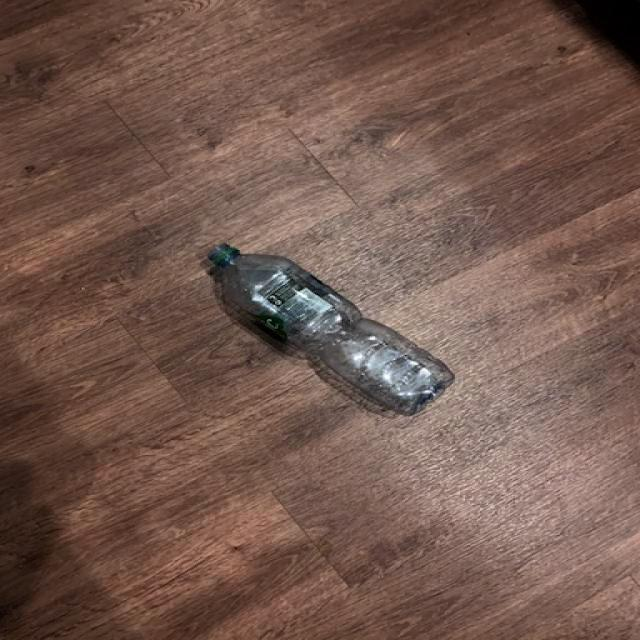bottle: (208, 242, 456, 416)
